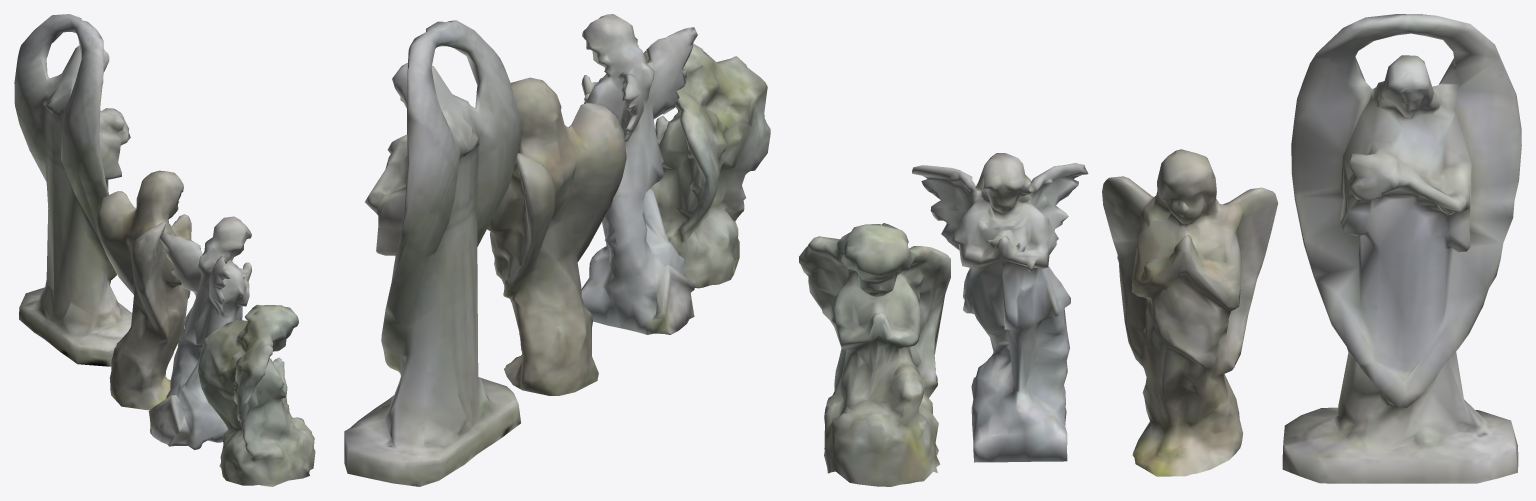
File: angels-scanned.glb
3 renders of one model, left to right at view 1: azimuth 30°, elevation 25°; view 2: azimuth 150°, elevation 25°; view 3: azimuth 270°, elevation 25°, orthographic. The views are drawn at different scales.
Parts seen in each view (by area): view 1: low; view 2: low; view 3: low.
Boxes of the visible parts, <box> form: low: <box>14,14,315,486</box>; low: <box>344,14,770,486</box>; low: <box>799,14,1521,486</box>.
Bounding box in the file's own units: 0.457 × 1.4 × 2.05.
Materials: 1 (1 with a texture image).
